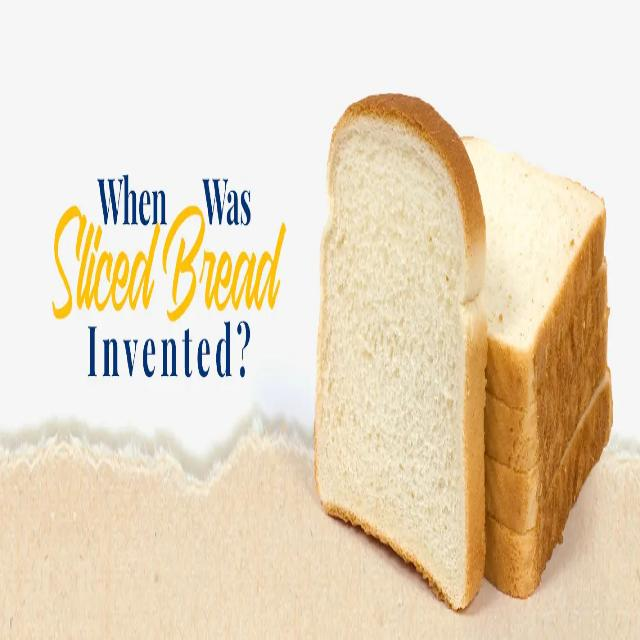Bread: (387, 124, 614, 610), (312, 83, 494, 618)
